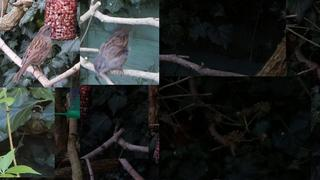dunnock: (12, 24, 56, 83), (93, 24, 135, 78)
